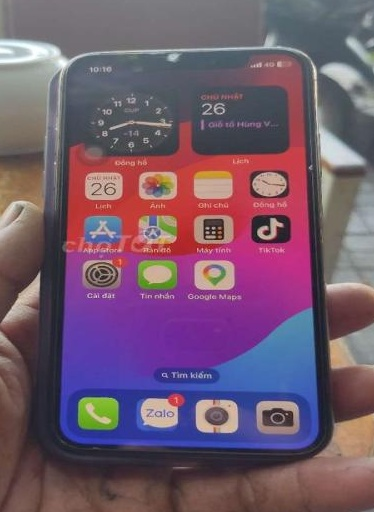physical_damage: (82, 440, 107, 456)
scratch: (57, 432, 76, 453)
